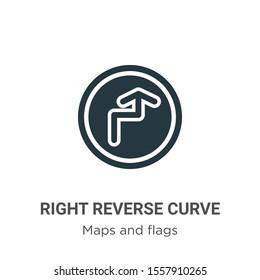Right Reverse Bend: (54, 53, 187, 174)
